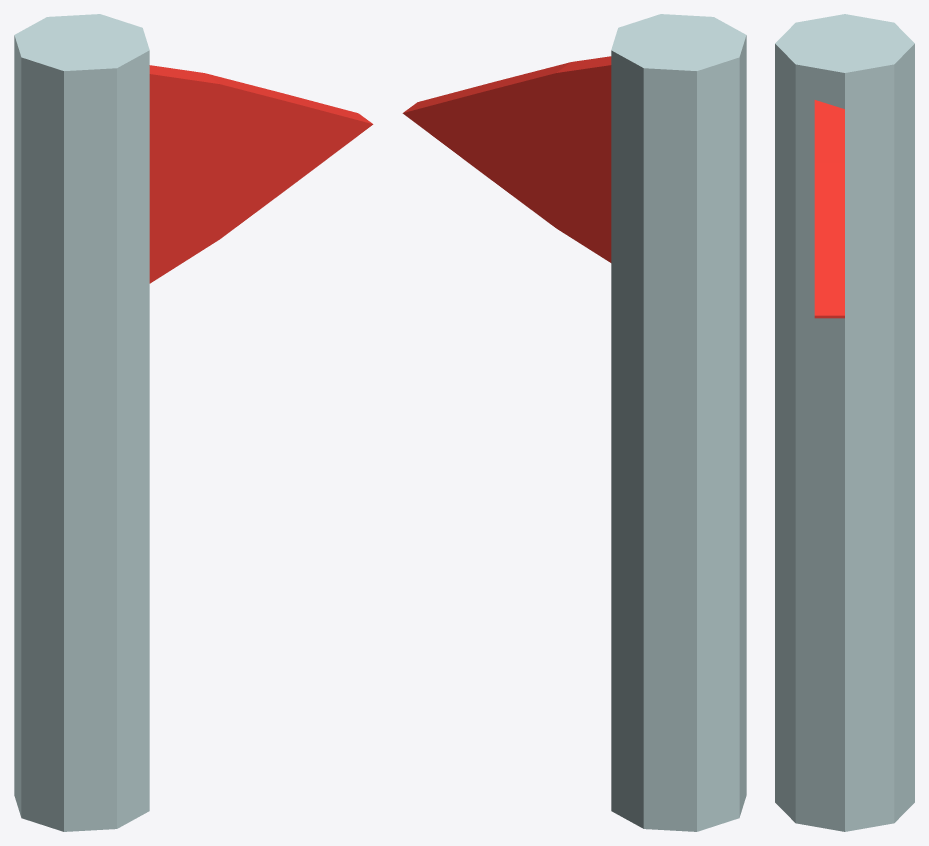
The model's file is STADIUM_Flag_Mesh.fbx.
3 renders of one model, left to right at view 1: azimuth 30°, elevation 25°; view 2: azimuth 150°, elevation 25°; view 3: azimuth 270°, elevation 25°, orthographic.
Parts seen in each view (by area): view 1: STADIUM_Flag_Mesh; view 2: STADIUM_Flag_Mesh; view 3: STADIUM_Flag_Mesh.
Boxes of the visible parts, x1,y1,x2,y2 form: STADIUM_Flag_Mesh: (14,14,373,831); STADIUM_Flag_Mesh: (402,14,746,831); STADIUM_Flag_Mesh: (775,14,914,831).
Size of the model in its own units: 5.48 by 11.82 by 1.97.
